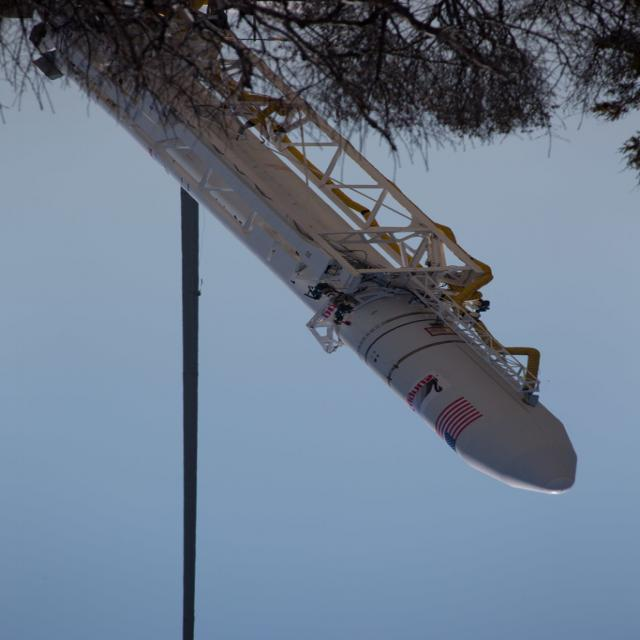missile: (30, 1, 581, 498)
